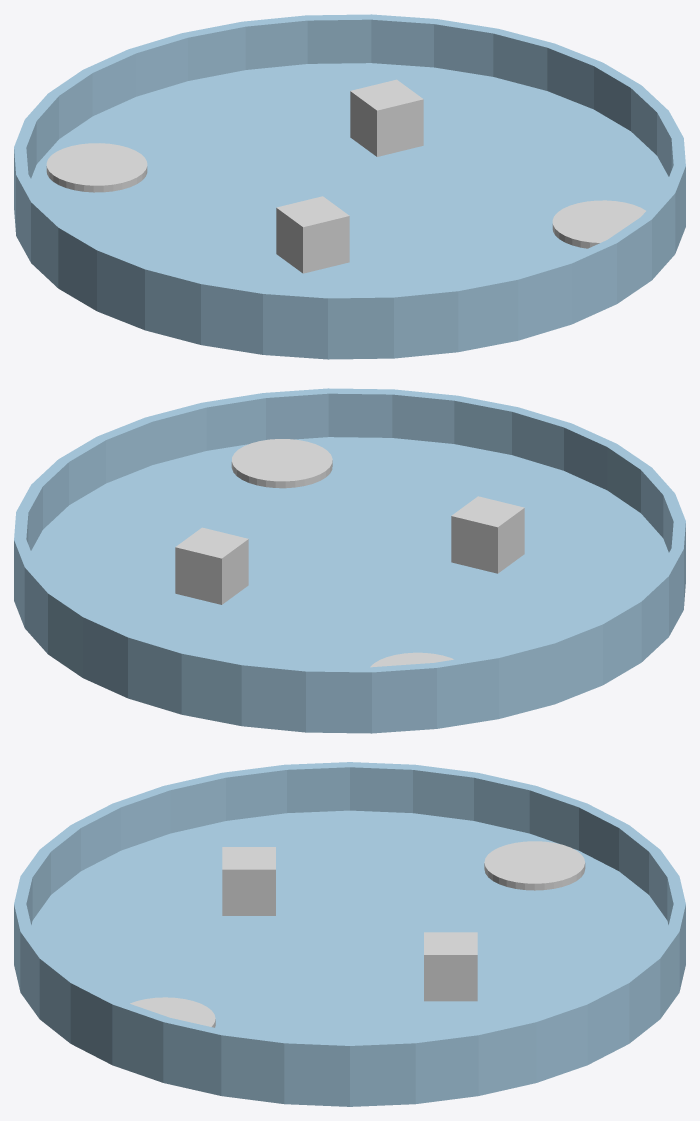
Rendered from stage2.fbx.
3 views of the same model, one above another, from view 1: azimuth 30°, elevation 25°; view 2: azimuth 150°, elevation 25°; view 3: azimuth 270°, elevation 25° (orthographic).
Parts seen in each view (by area): view 1: 円柱, 立方体.001, 立方体, 円柱.002, 円柱.001; view 2: 円柱, 立方体.001, 立方体, 円柱.001, 円柱.002; view 3: 円柱, 円柱.002, 立方体, 立方体.001, 円柱.001.
Boxes of the visible parts, x1=… form: 円柱: x1=14, y1=14, x2=685, y2=359; 立方体.001: x1=276, y1=196, x2=349, y2=273; 立方体: x1=350, y1=79, x2=423, y2=156; 円柱.002: x1=46, y1=143, x2=147, y2=192; 円柱.001: x1=552, y1=200, x2=645, y2=248; 円柱: x1=14, y1=388, x2=685, y2=733; 立方体.001: x1=451, y1=496, x2=524, y2=573; 立方体: x1=175, y1=527, x2=248, y2=604; 円柱.001: x1=231, y1=439, x2=332, y2=488; 円柱.002: x1=370, y1=652, x2=453, y2=667; 円柱: x1=14, y1=762, x2=685, y2=1106; 円柱.002: x1=484, y1=841, x2=585, y2=890; 立方体: x1=424, y1=932, x2=477, y2=1001; 立方体.001: x1=222, y1=847, x2=275, y2=915; 円柱.001: x1=130, y1=997, x2=215, y2=1027.
Size of the model in its own units: 2000 by 210 by 2000.
